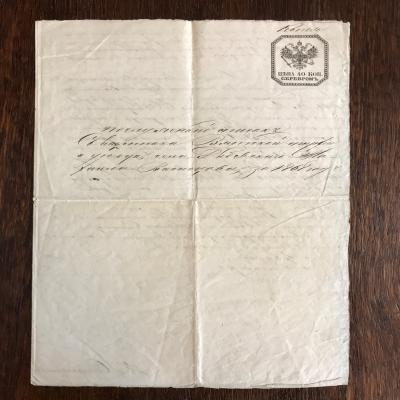document: (28, 19, 351, 395)
